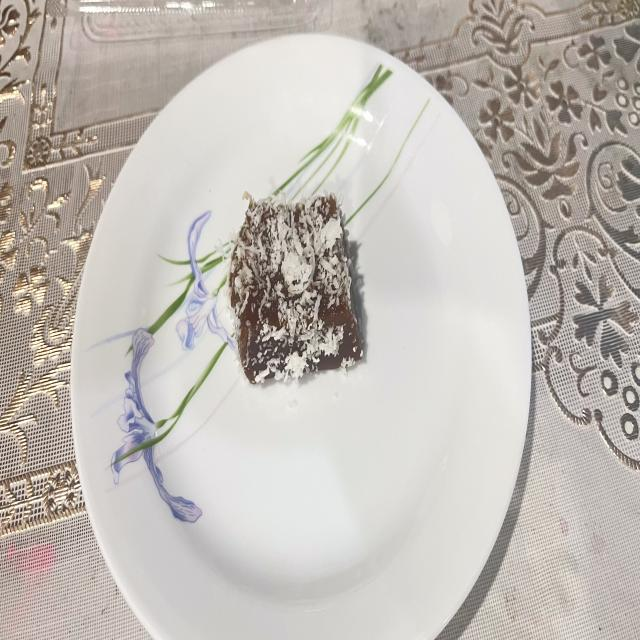kaswi: (229, 193, 362, 382)
